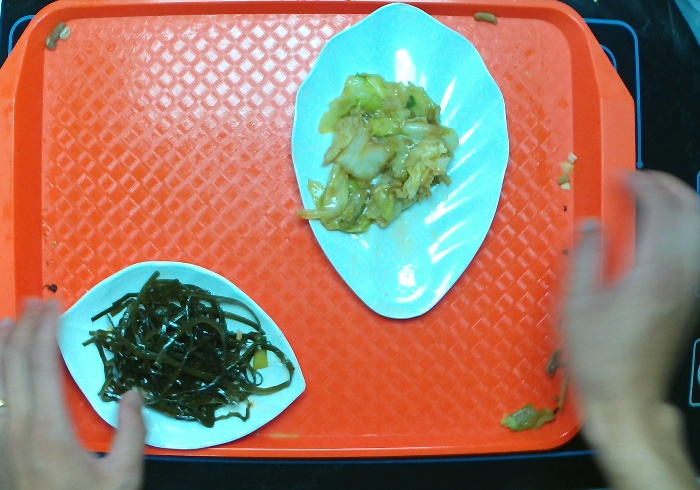RJxy-Bai_Ye_Pan: (284, 6, 514, 323)
RJxy-Da_Du_Pan: (46, 251, 314, 454)
